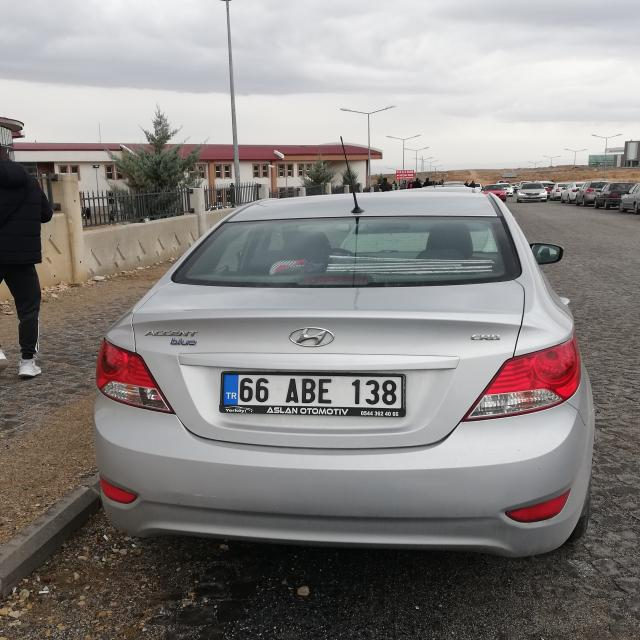license_plate: (222, 372, 404, 406)
